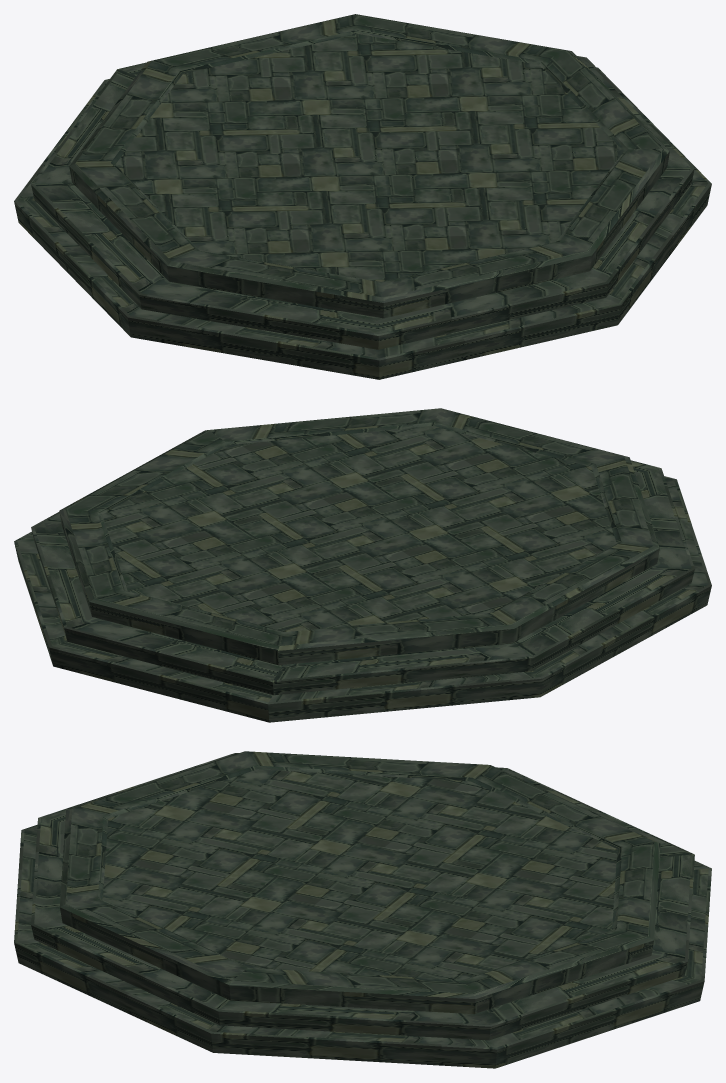
Rendered from EN_P_StonePlatform.fbx.
3 views of the same model, one above another, from view 1: azimuth 30°, elevation 25°; view 2: azimuth 150°, elevation 25°; view 3: azimuth 270°, elevation 25° (orthographic). The views are drawn at different scales.
Visible parts, largest first — view 1: EN_P_StonePlatform; view 2: EN_P_StonePlatform; view 3: EN_P_StonePlatform.
Boxes of the visible parts, x1,y1,x2,y2 form: EN_P_StonePlatform: [14, 14, 711, 379]; EN_P_StonePlatform: [14, 408, 711, 722]; EN_P_StonePlatform: [14, 751, 711, 1068].
Bounding box in the file's own units: 1667 × 152 × 1707.
1 material, 1 textured.
